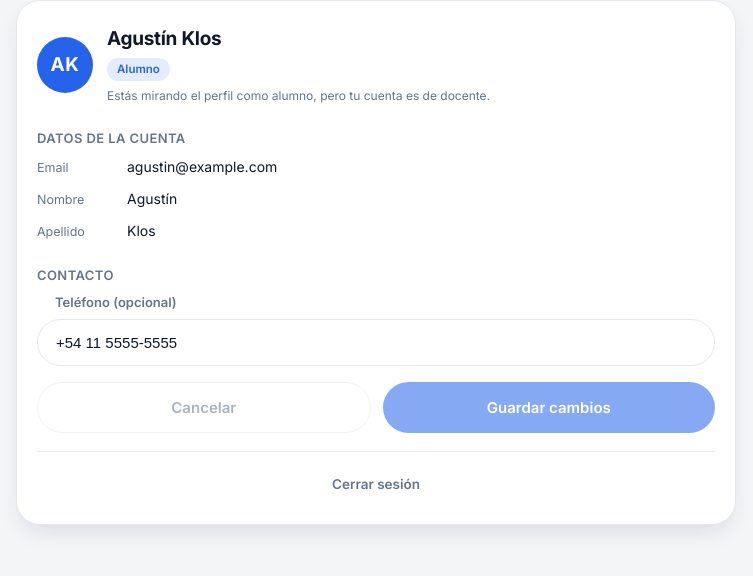
it: ProfilePage › un teléfono inválido no deja guardar
The width and height of the screenshot is (753, 576).
Replace the text in the field labelled "Teléfono (opcional)" with "abc" at (376, 342), box top-left (37, 318), bottom-right (715, 366)
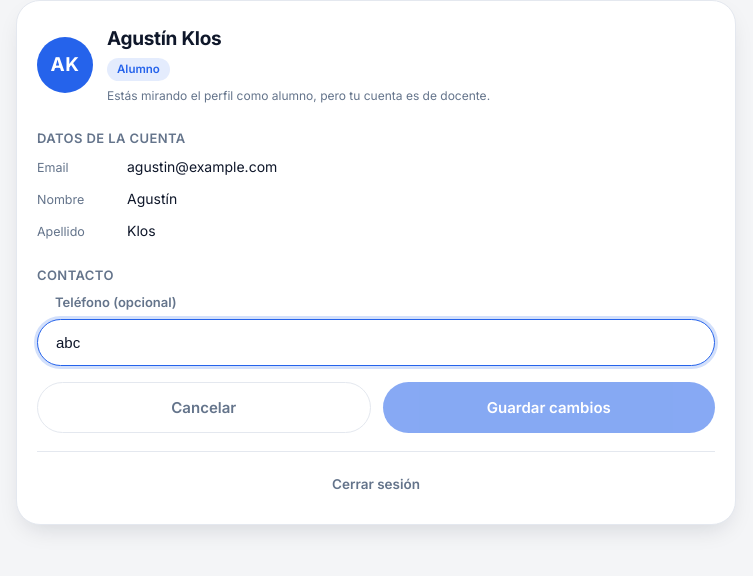
Press Tab
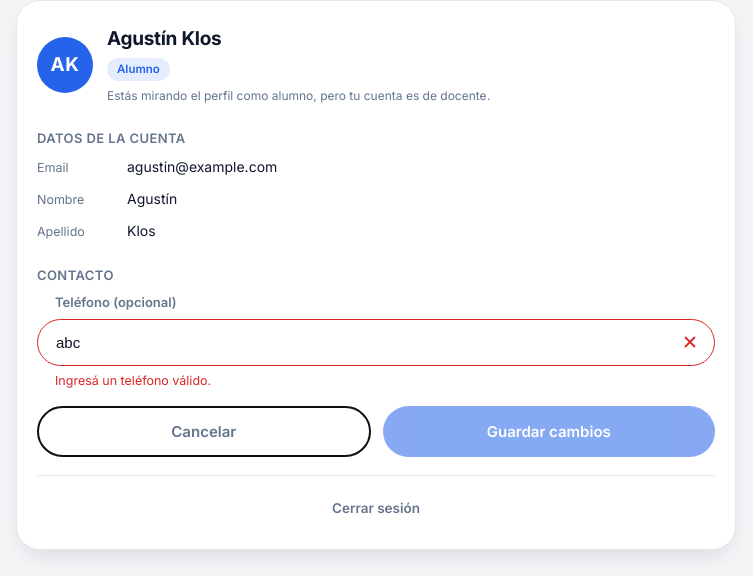
Check: the button "Guardar cambios" is disabled, box top-left (382, 406), bottom-right (715, 457)
Check: the text "Ingresá un teléfono válido." is shown, box top-left (55, 372), bottom-right (211, 388)
